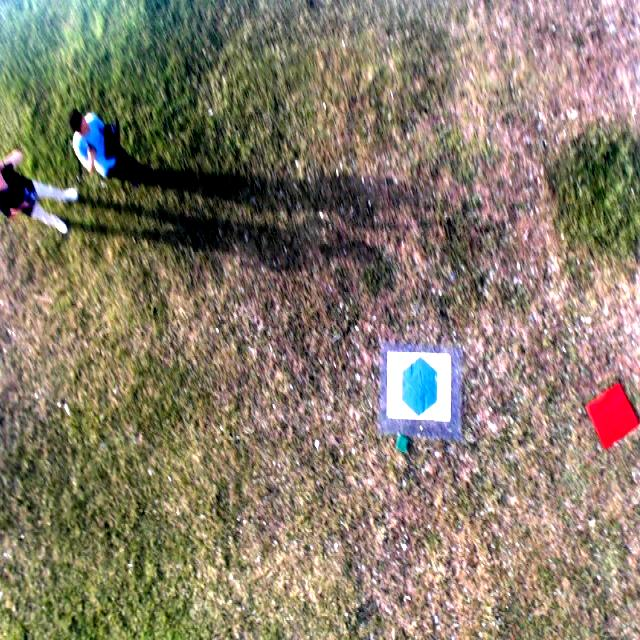blue_hexagon: (400, 358, 441, 418)
red_square: (586, 386, 639, 449)
